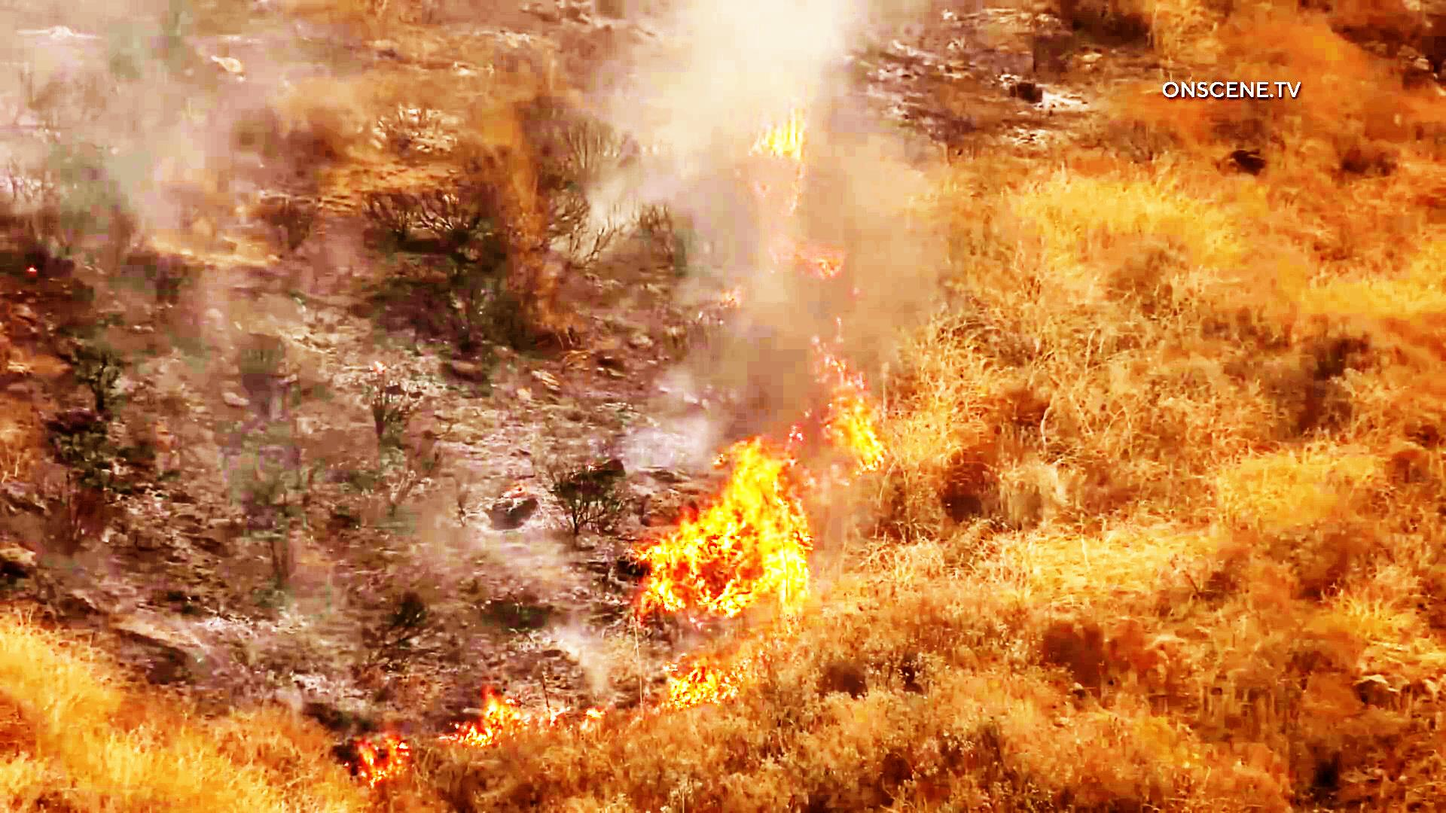fire: (625, 394, 837, 670), (733, 79, 855, 282), (798, 365, 891, 485), (443, 665, 542, 751), (345, 731, 420, 792)
